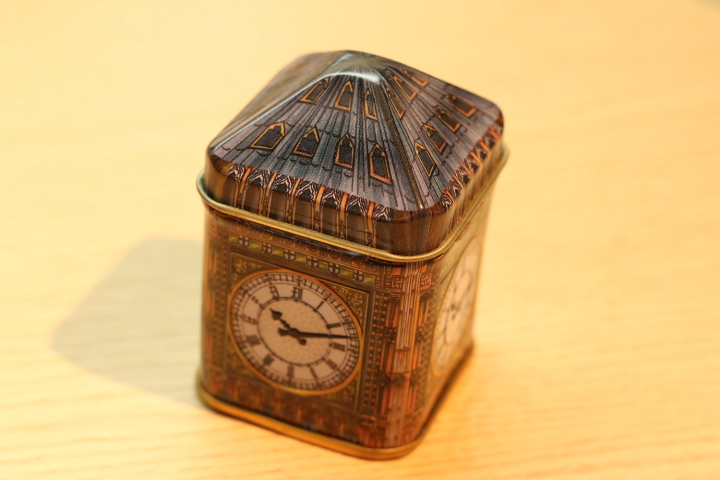Big Ben: (184, 36, 533, 480)
